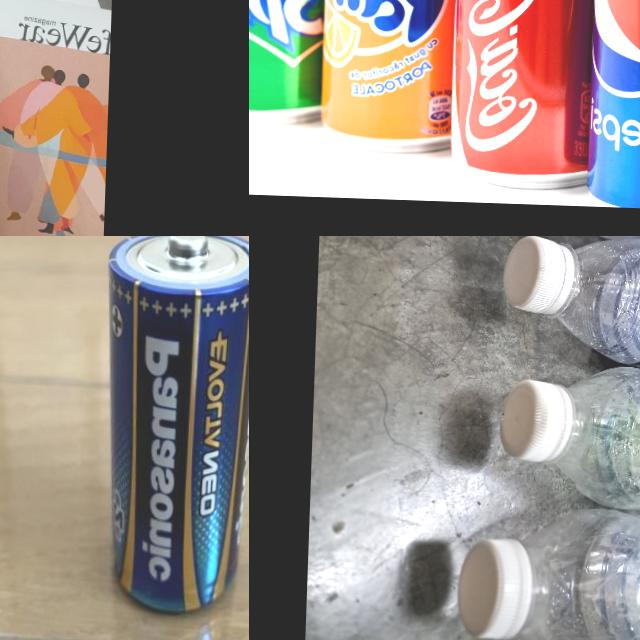bateria: (97, 236, 249, 624)
garrafa plástica: (514, 504, 640, 640), (553, 367, 640, 519), (554, 236, 640, 386)
lata: (448, 0, 634, 188), (319, 0, 493, 157), (249, 0, 345, 126)
papel: (0, 0, 119, 236)
tampa plástica: (456, 536, 529, 640), (498, 379, 564, 463), (501, 236, 565, 314)
